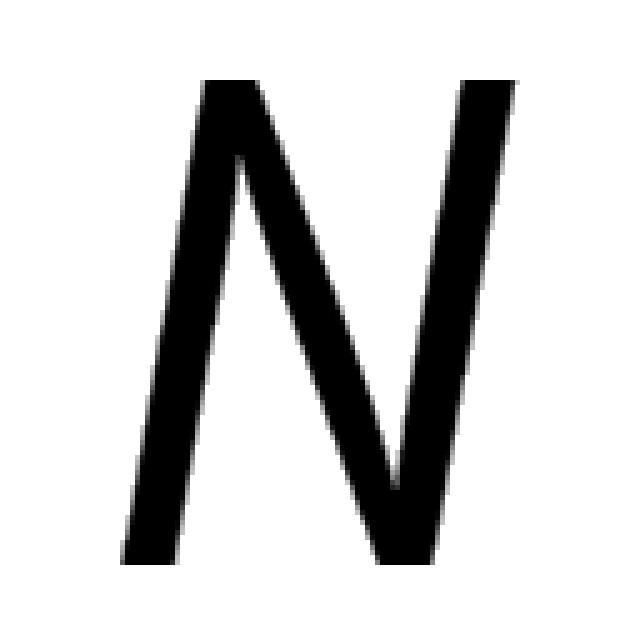N: (110, 65, 525, 570)
